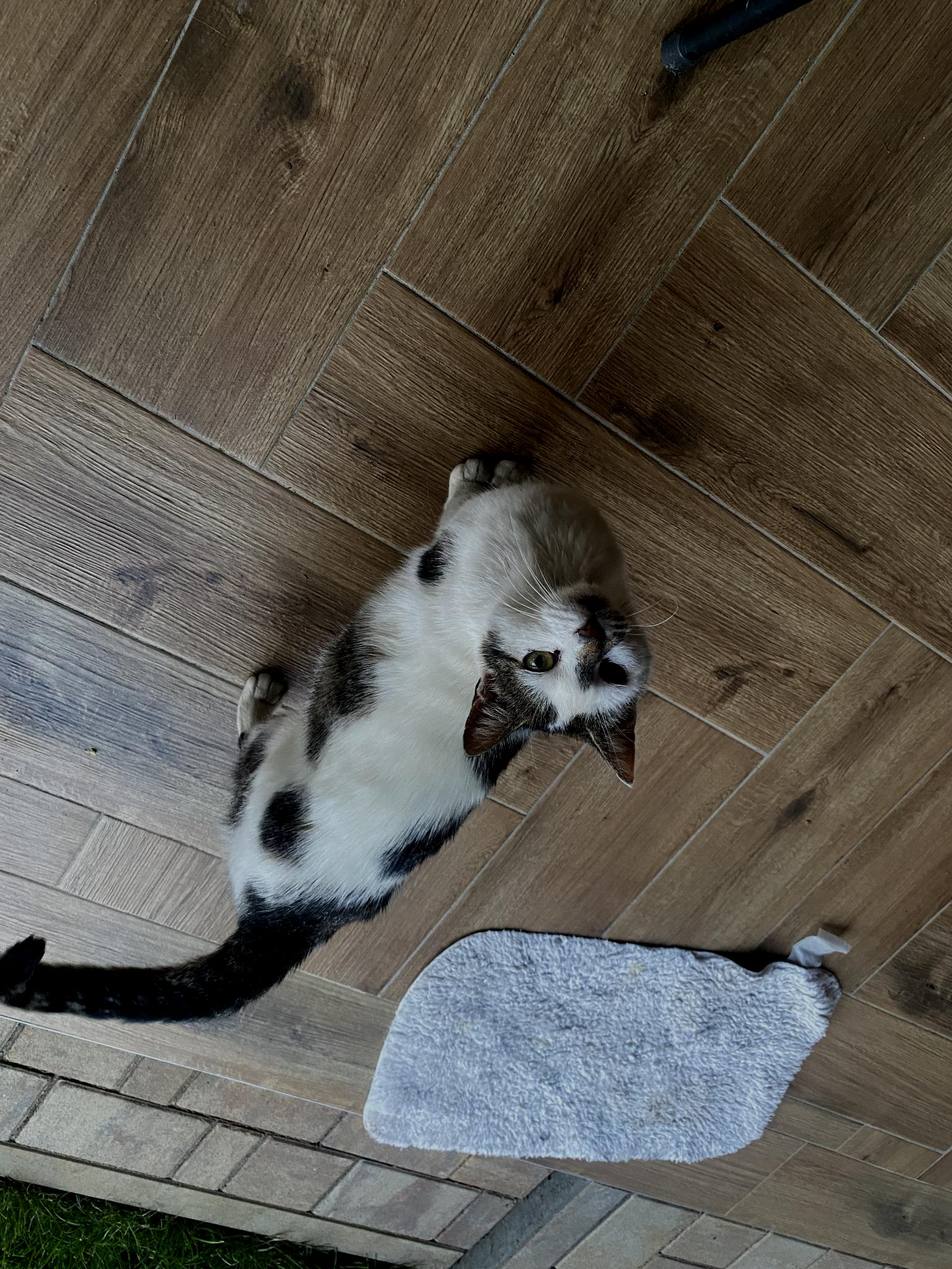macka: (0, 457, 650, 1026)
